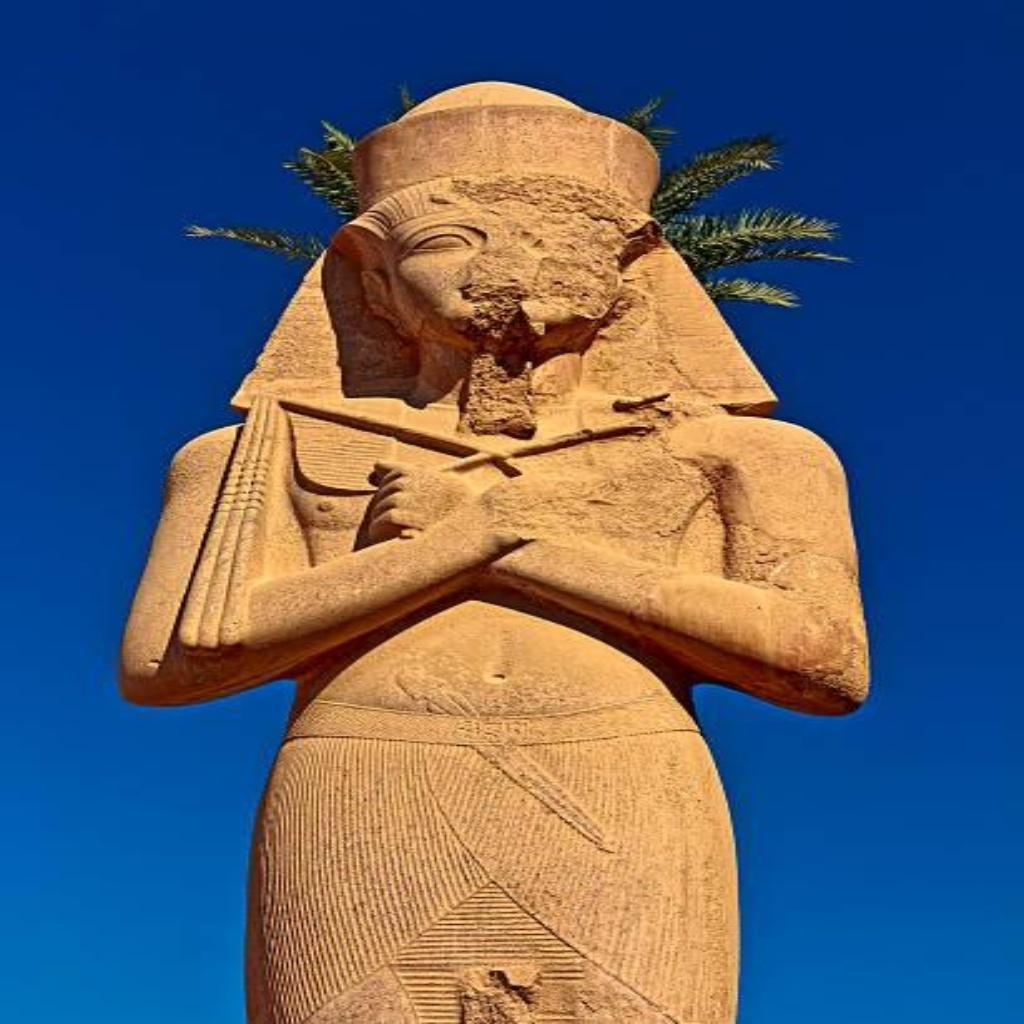Standing Statue of King Ramses II: (113, 77, 876, 1021)
